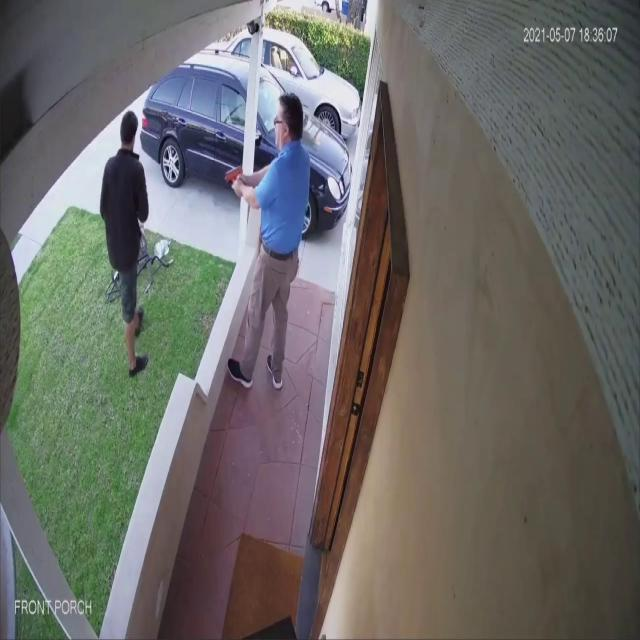weapon: (222, 164, 245, 185)
